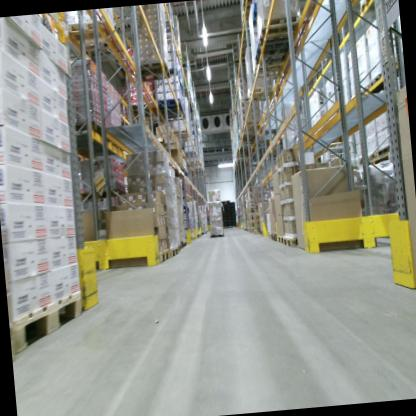pallet: (9, 291, 88, 362), (102, 246, 172, 274), (66, 20, 119, 56), (257, 9, 305, 46), (252, 39, 290, 64), (250, 56, 291, 79), (70, 116, 107, 139), (246, 82, 280, 103), (120, 99, 159, 117), (141, 61, 171, 84), (154, 94, 184, 111), (161, 108, 185, 125), (368, 72, 385, 91), (141, 113, 163, 127), (169, 127, 191, 139), (282, 232, 298, 248), (251, 5, 258, 32), (208, 228, 225, 238), (168, 245, 180, 257), (181, 240, 190, 250), (277, 233, 284, 245), (271, 230, 278, 242), (186, 235, 196, 242), (265, 229, 272, 238), (178, 242, 183, 252)
